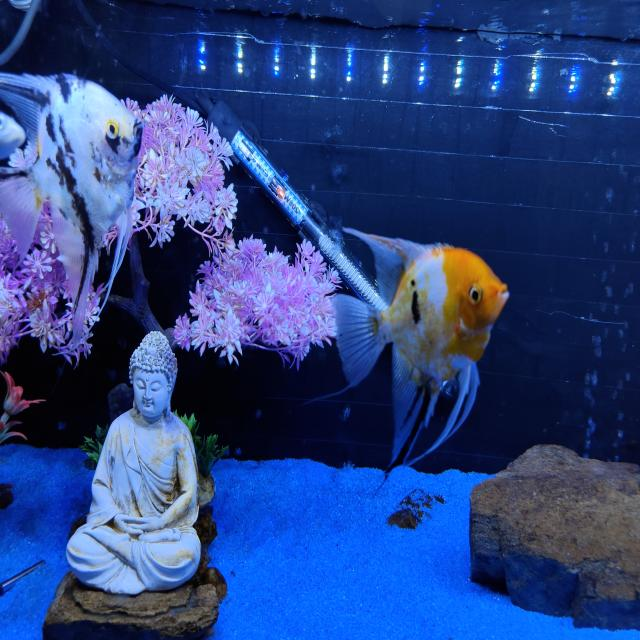Fish: (333, 228, 508, 472), (0, 73, 142, 345), (0, 112, 24, 159)
